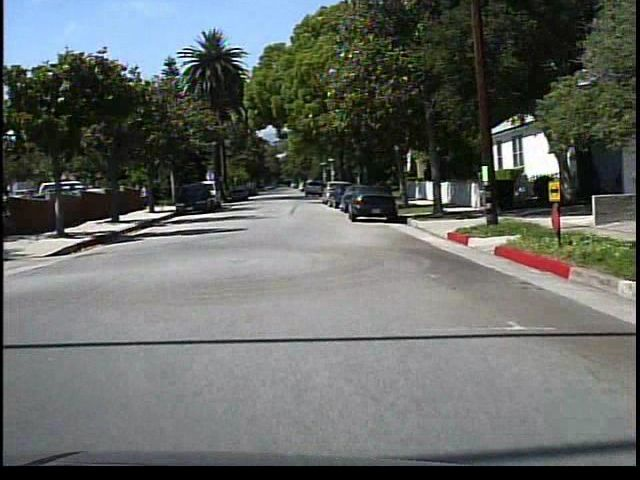person: (140, 183, 154, 213)
